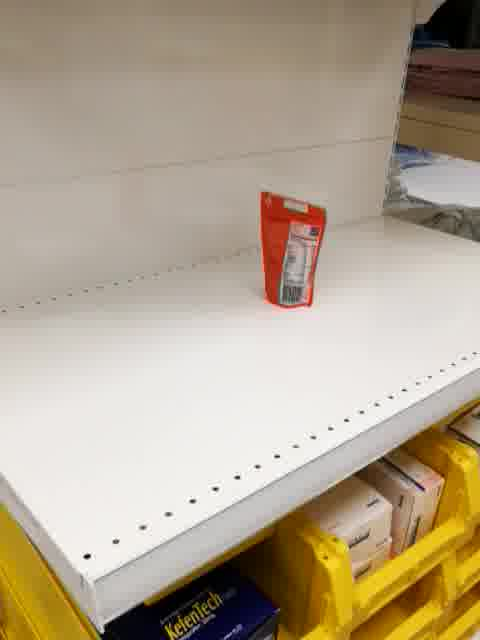whitechia: (256, 190, 327, 309)
